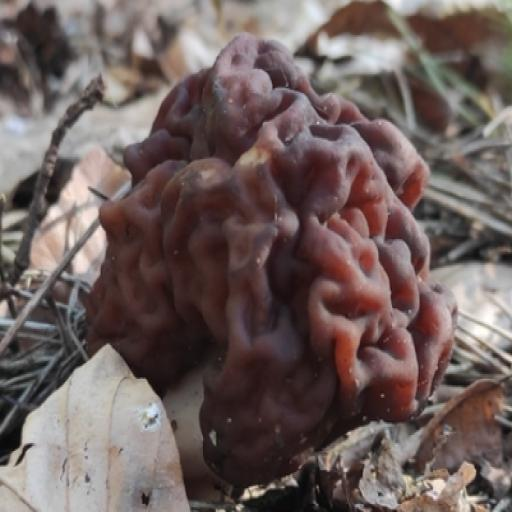mushroom: (88, 27, 455, 466)
